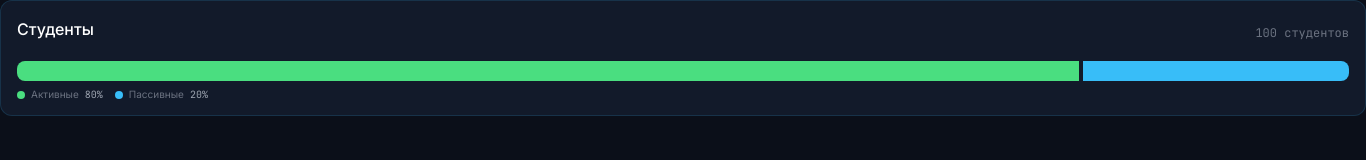
StudentsBar › toggles cohort visibility on click
Click the text "Пассивные".
click(156, 94)  # box [129, 87, 184, 102]
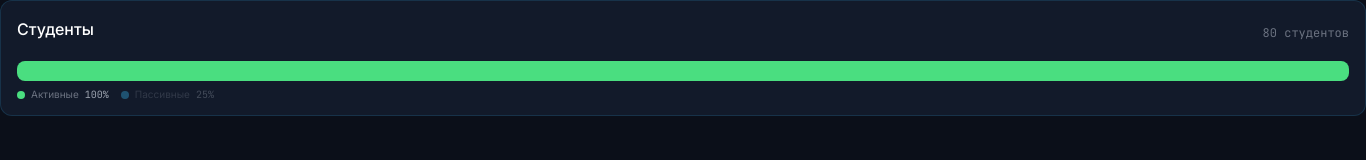
Check: the text "80 студентов" is shown, box [1263, 25, 1349, 41]
